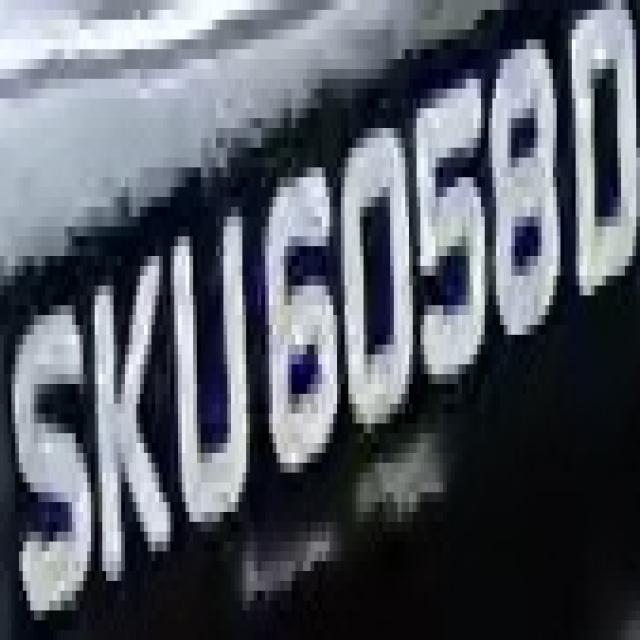0: (334, 108, 421, 453)
5: (413, 59, 485, 384)
6: (257, 148, 341, 482)
8: (485, 29, 564, 334)
D: (560, 10, 640, 325)
K: (87, 226, 171, 591)
S: (3, 285, 94, 640)
U: (159, 197, 258, 551)
